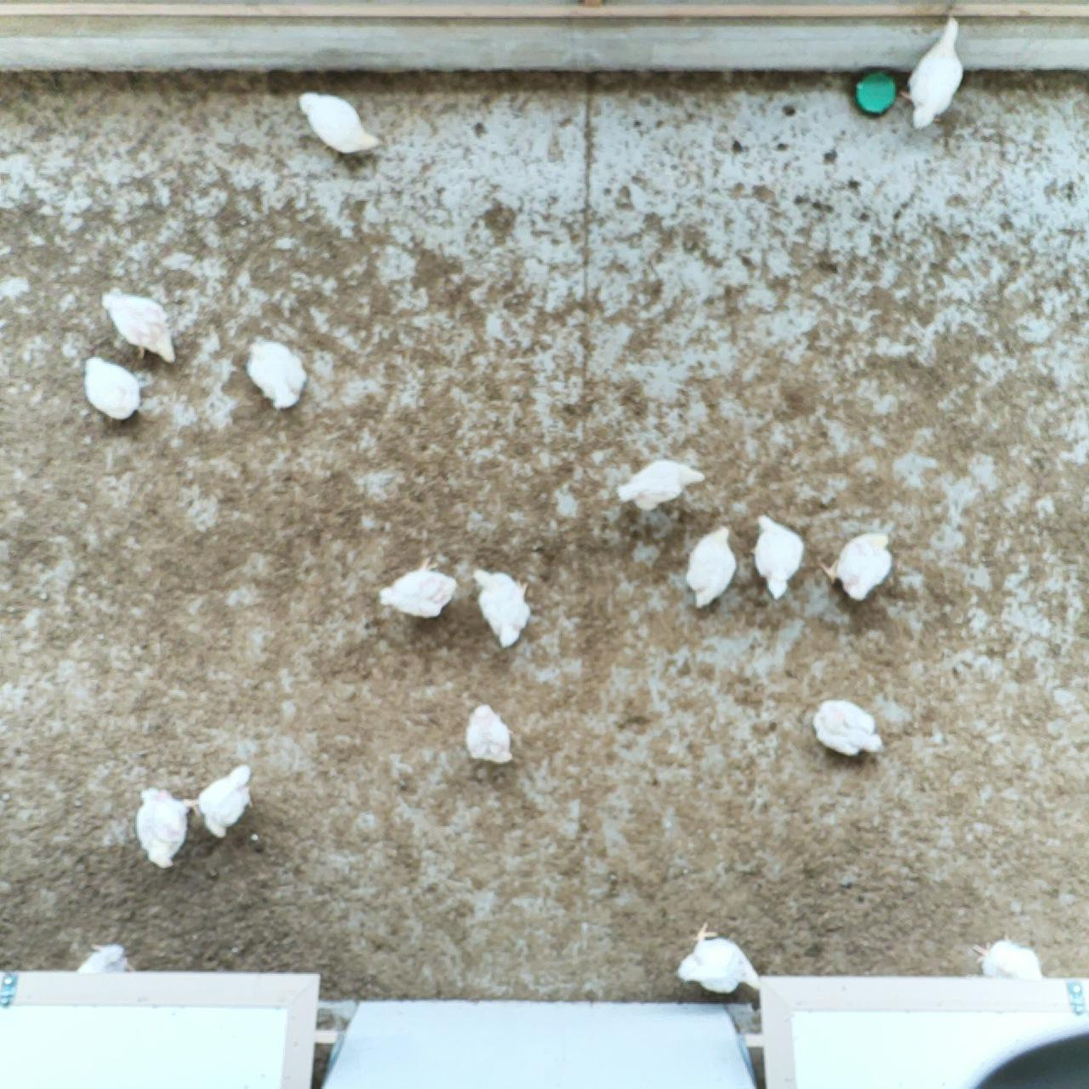chicken: (900, 13, 973, 131), (95, 286, 181, 364), (676, 918, 765, 993), (294, 87, 385, 159), (818, 524, 894, 602), (614, 454, 711, 515), (133, 783, 201, 870), (376, 557, 464, 623), (469, 566, 536, 650), (241, 334, 310, 414), (749, 513, 809, 602), (809, 697, 888, 761), (192, 760, 255, 838), (684, 524, 736, 615), (77, 355, 144, 421), (464, 699, 517, 766), (971, 937, 1044, 982), (75, 942, 139, 976)
